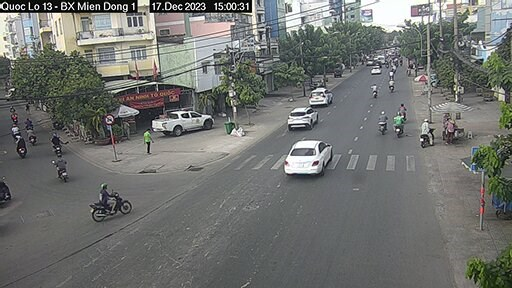car: (150, 104, 211, 140), (282, 131, 323, 170), (287, 103, 316, 131), (306, 84, 332, 113)
motorbike: (84, 182, 128, 236), (378, 108, 396, 136), (390, 115, 407, 135)
